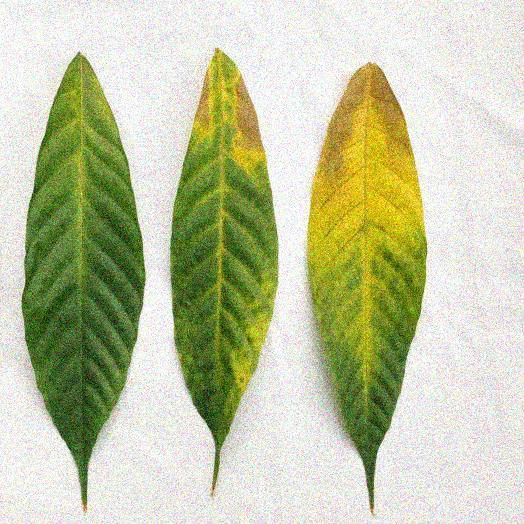Healthy Leaf: (22, 53, 144, 508)
Potassium: (307, 64, 426, 511), (171, 49, 277, 491)
